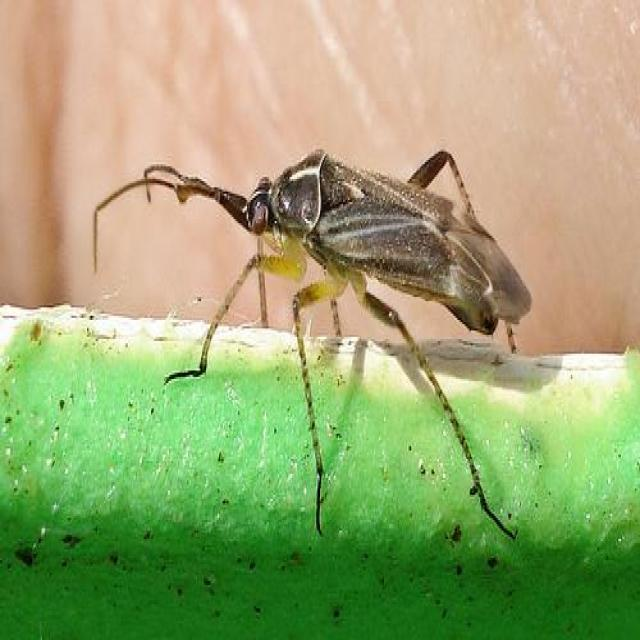Miridae-Adult-: (56, 86, 536, 559)
